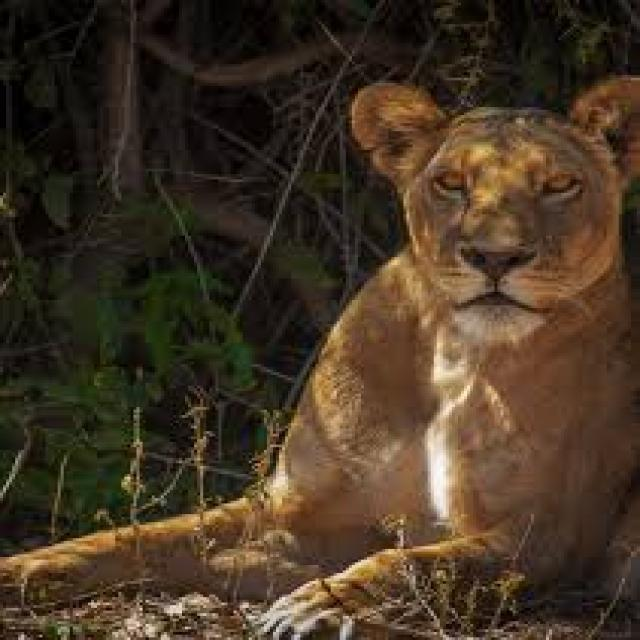Lion: (0, 74, 637, 635)
